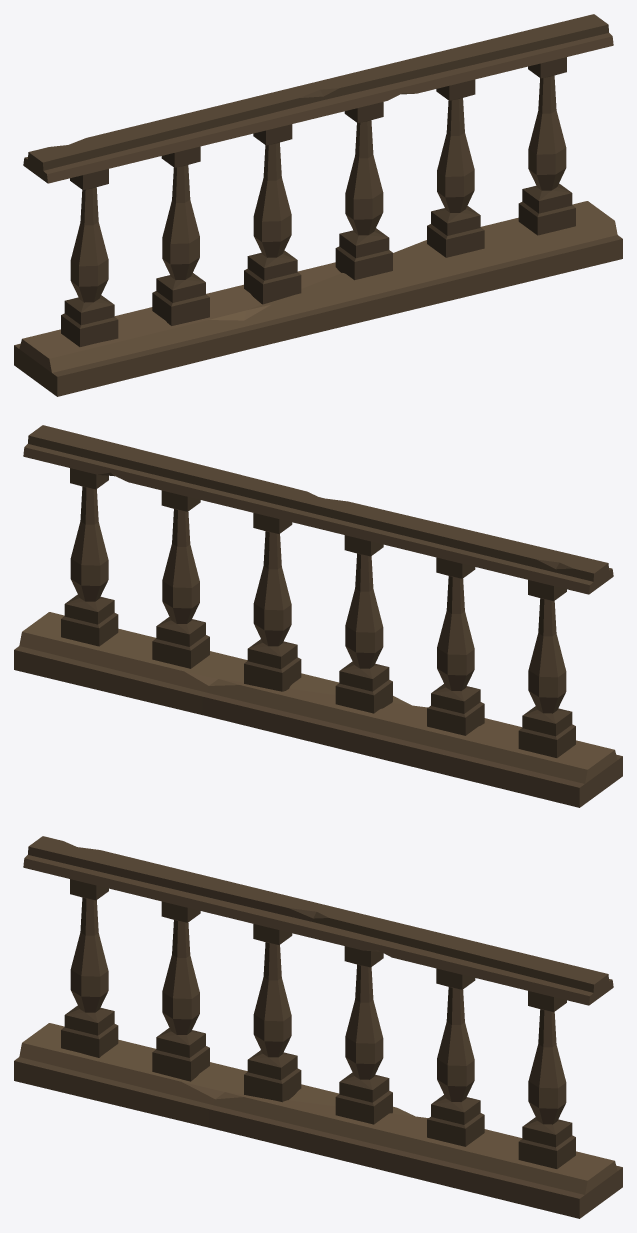
File: SM_Bld_Railing_01.fbx
3 renders of one model, top to bottom at view 1: azimuth 30°, elevation 25°; view 2: azimuth 150°, elevation 25°; view 3: azimuth 330°, elevation 25°, orthographic.
Parts seen in each view (by area): view 1: SM_Bld_Railing_01; view 2: SM_Bld_Railing_01; view 3: SM_Bld_Railing_01.
Part boxes in pixels (x1,y1,x2,y2): SM_Bld_Railing_01: [14, 14, 622, 396]; SM_Bld_Railing_01: [14, 425, 622, 807]; SM_Bld_Railing_01: [14, 836, 622, 1218].
Size of the model in its own units: 250 by 94.51 by 33.14.
1 material, 1 textured.
